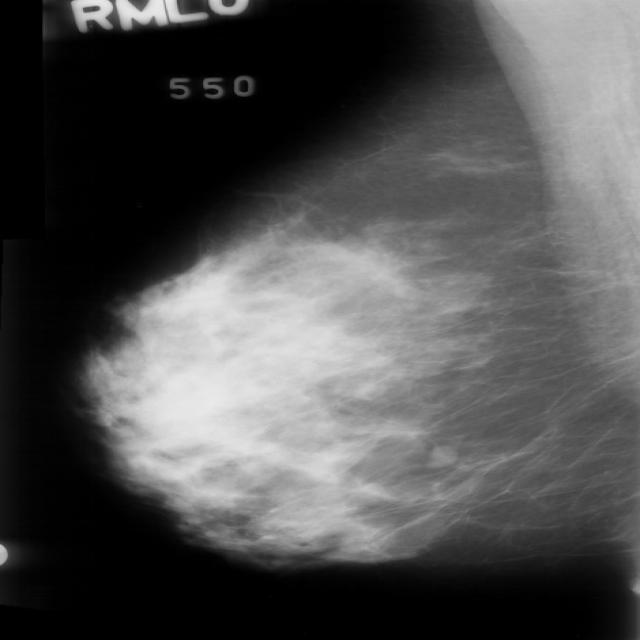tumour: (426, 442, 456, 468)
